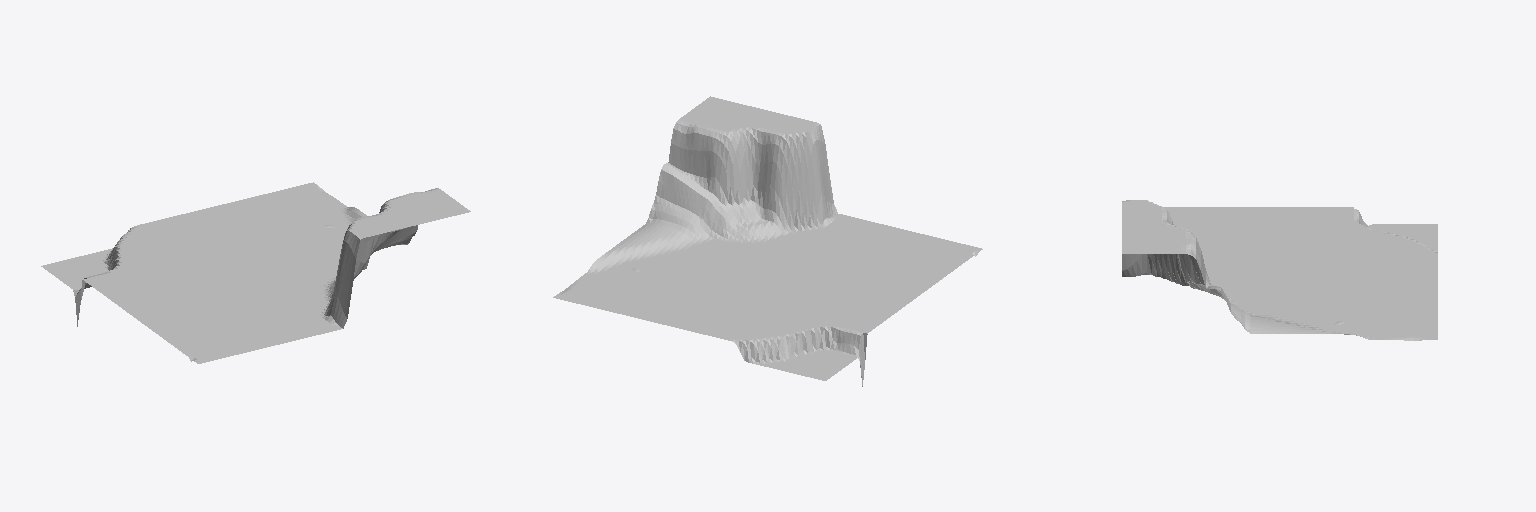
File: SM_Terrain_Tuto1Chunk2.1.obj
The picture shows the model from 3 angles: view 1: azimuth 30°, elevation 25°; view 2: azimuth 150°, elevation 25°; view 3: azimuth 270°, elevation 25°; orthographic projection.
Bounding box in the file's own units: 100 × 47.94 × 100.